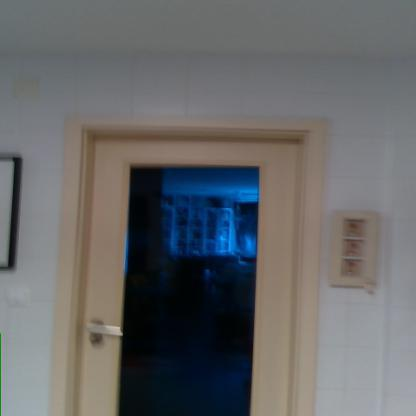door: (82, 134, 296, 415)
lever: (86, 321, 129, 339)
